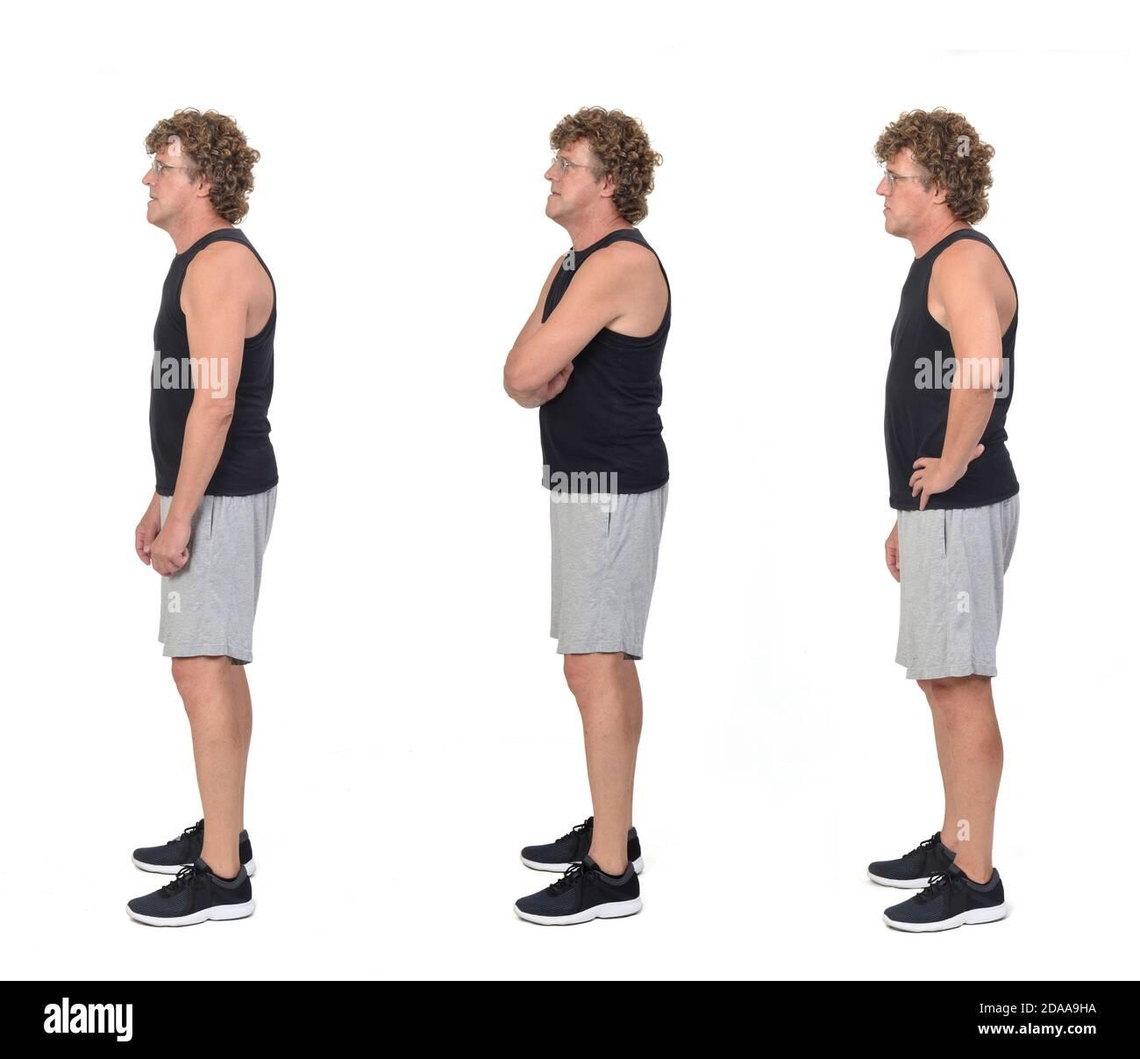Shorts: (879, 489, 1022, 688), (142, 484, 280, 666), (545, 483, 670, 662)
vest: (876, 231, 1021, 512), (537, 225, 678, 498), (152, 226, 282, 498)
